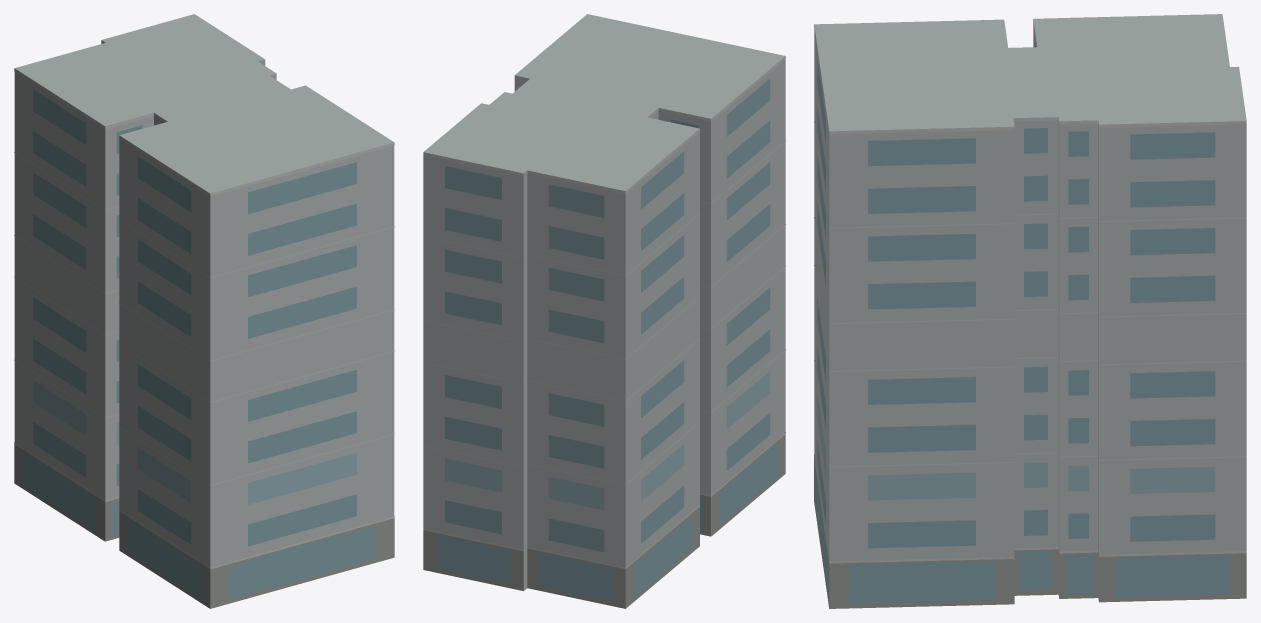
File: survey-upis-32740231.glb
The picture shows the model from 3 angles, left to right: view 1: azimuth 30°, elevation 25°; view 2: azimuth 150°, elevation 25°; view 3: azimuth 270°, elevation 25°; orthographic projection. The views are drawn at different scales.
Parts seen in each view (by area): view 1: survey-upis-32740231.tmp; view 2: survey-upis-32740231.tmp; view 3: survey-upis-32740231.tmp.
Boxes of the visible parts, box(x1,y1,x2,y2) form: survey-upis-32740231.tmp: box(14, 14, 394, 608); survey-upis-32740231.tmp: box(423, 14, 785, 608); survey-upis-32740231.tmp: box(814, 14, 1246, 608).
Bounding box in the file's own units: 17.51 × 33.2 × 27.28.
